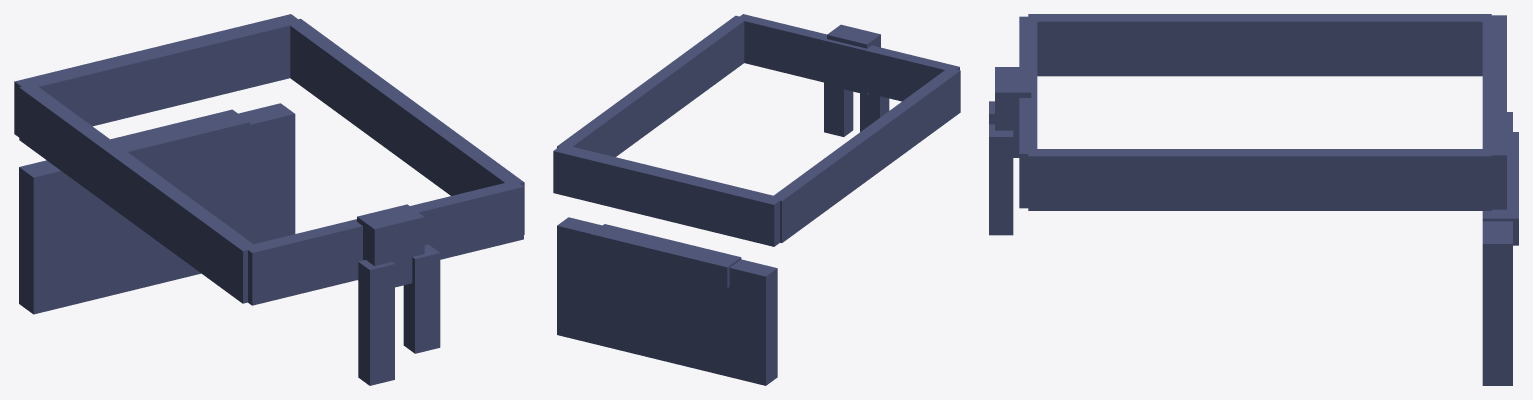
File: mascara_ninja_faixa.glb
3 renders of one model, left to right at view 1: azimuth 30°, elevation 25°; view 2: azimuth 150°, elevation 25°; view 3: azimuth 270°, elevation 25°, orthographic. The views are drawn at different scales.
Visible parts, largest first — view 1: mascara_ninja_faixa; view 2: mascara_ninja_faixa; view 3: mascara_ninja_faixa.
Part boxes in pixels (x1,y1,x2,y2): mascara_ninja_faixa: (14,14,524,385); mascara_ninja_faixa: (553,14,960,385); mascara_ninja_faixa: (989,14,1518,385).
Bounding box in the file's own units: 0.56 × 0.44 × 0.88.
